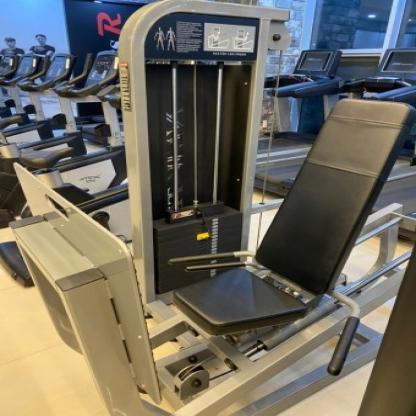leg press: (7, 2, 416, 416)
